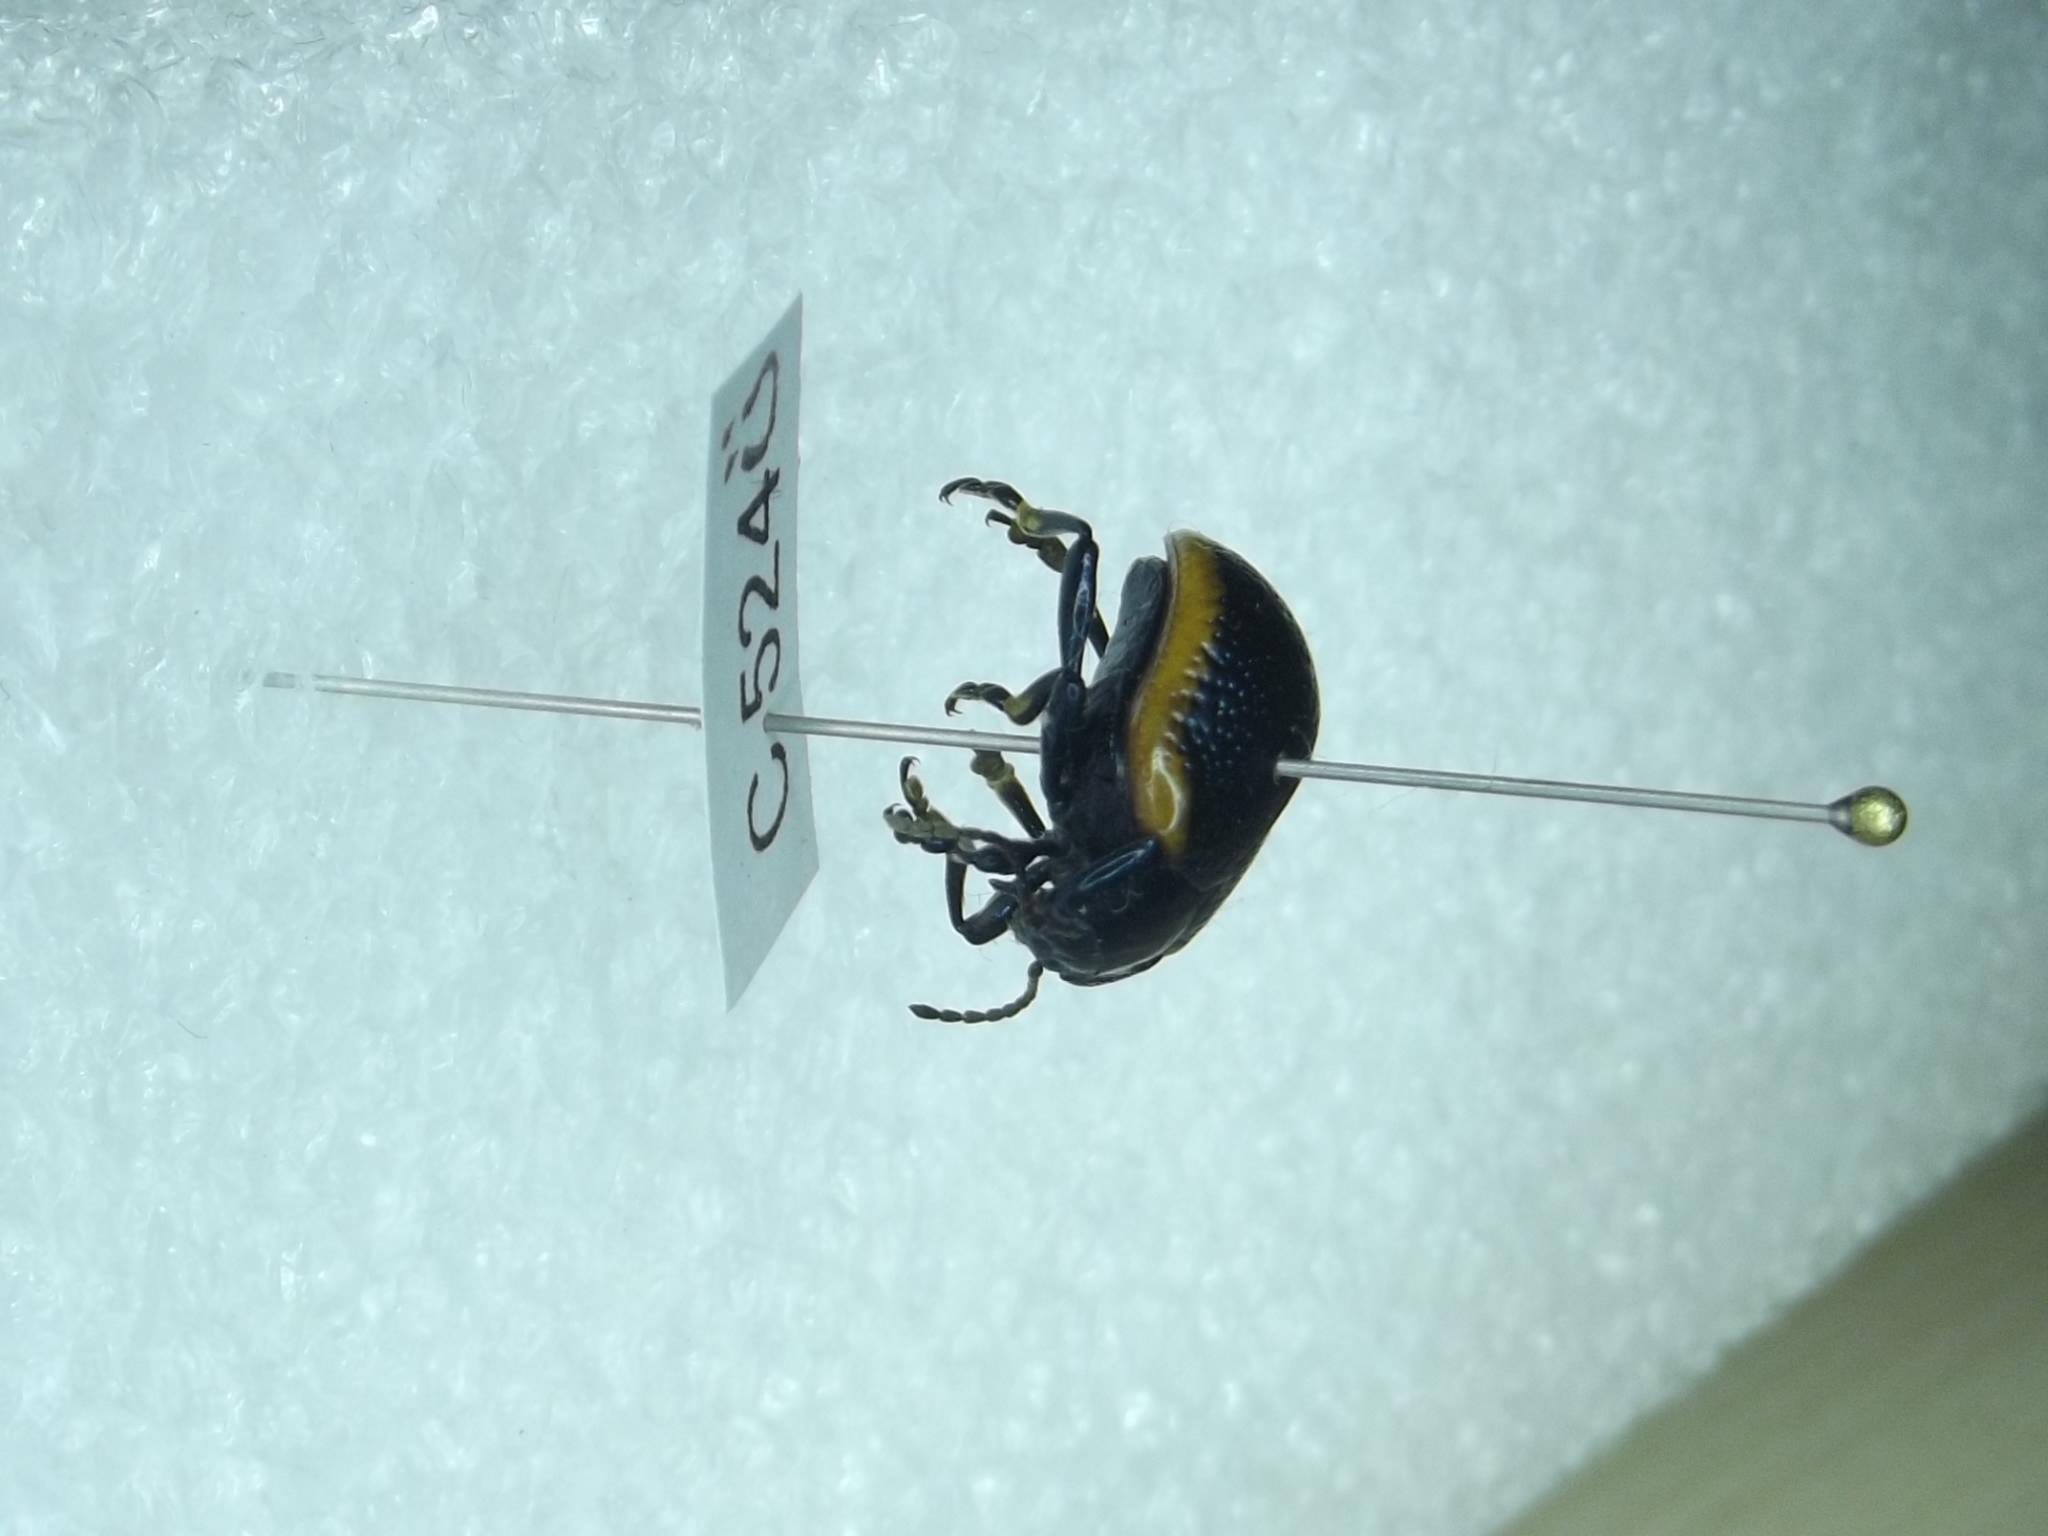Chrysolina_gypsophila: (877, 444, 1329, 1026)
